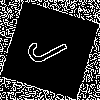J: (25, 25, 77, 69)
